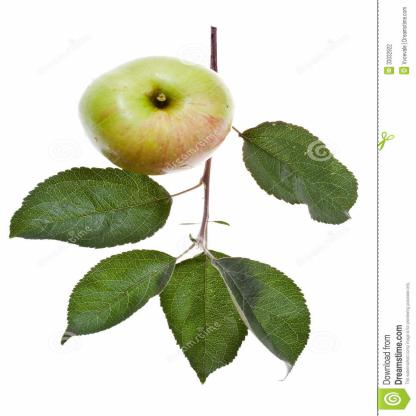apple leaf: (208, 249, 334, 383), (237, 119, 363, 236), (6, 163, 178, 246), (171, 245, 258, 394), (53, 249, 181, 346)
